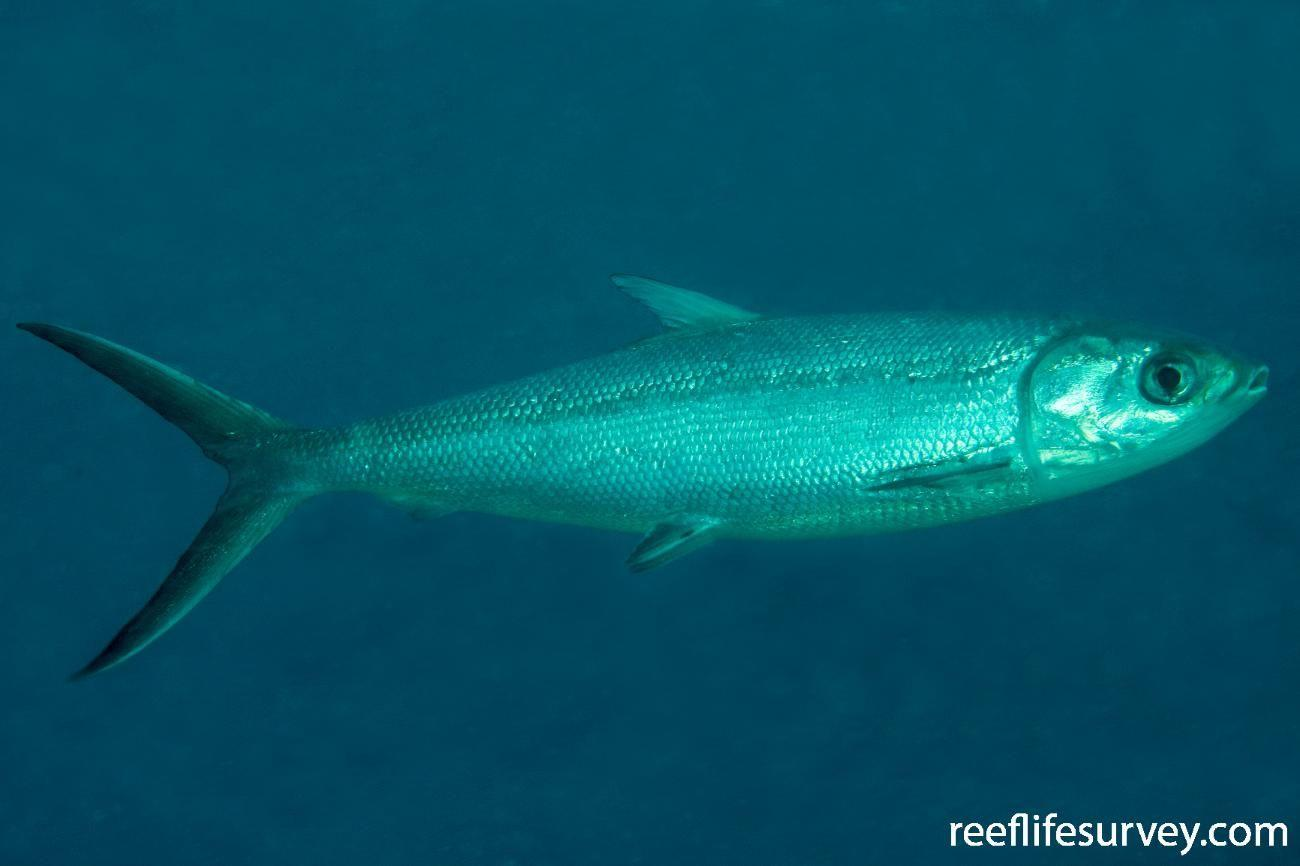Bangus: (23, 270, 1278, 682)
